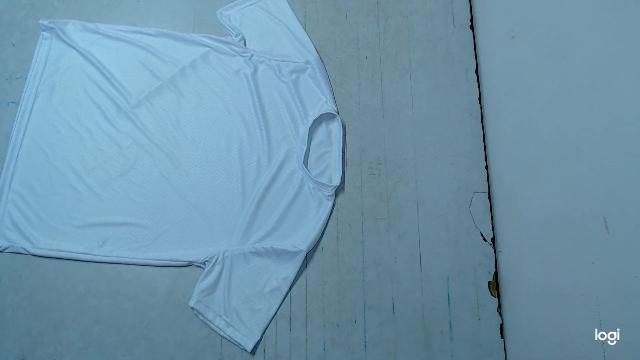new-garment: (0, 0, 343, 351)
